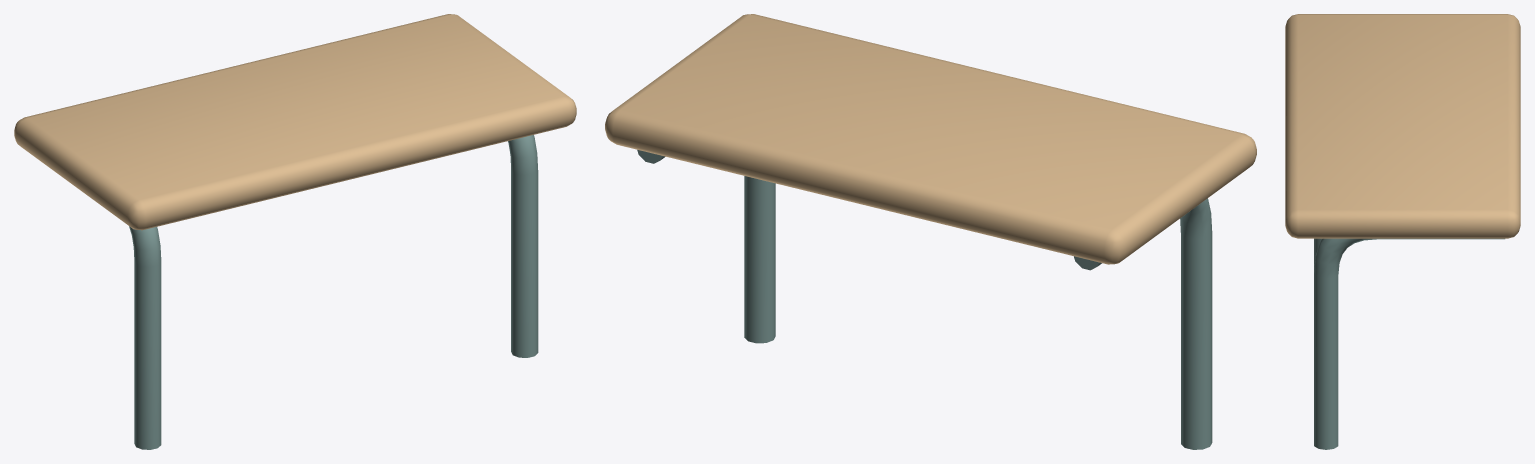
Rendered from desk.glb.
3 renders of one model, left to right at view 1: azimuth 30°, elevation 25°; view 2: azimuth 150°, elevation 25°; view 3: azimuth 270°, elevation 25°, orthographic. The views are drawn at different scales.
Parts seen in each view (by area): view 1: wood, paint; view 2: wood, paint; view 3: wood, paint.
Boxes of the visible parts, x1,y1,x2,y2 form: wood: [14, 14, 576, 230]; paint: [129, 135, 538, 449]; wood: [605, 14, 1256, 264]; paint: [637, 150, 1212, 449]; wood: [1285, 14, 1520, 238]; paint: [1314, 238, 1504, 449].
Bounding box in the file's own units: 0.95 × 0.53 × 0.46.
